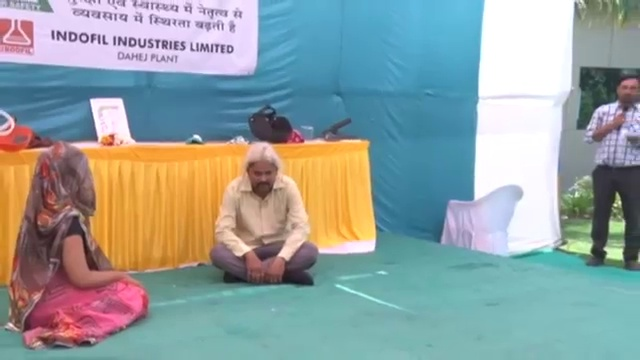helmet_off: (32, 143, 95, 217), (243, 147, 279, 195), (615, 75, 640, 106)
person: (5, 142, 148, 350), (209, 142, 318, 288), (582, 75, 640, 272)
